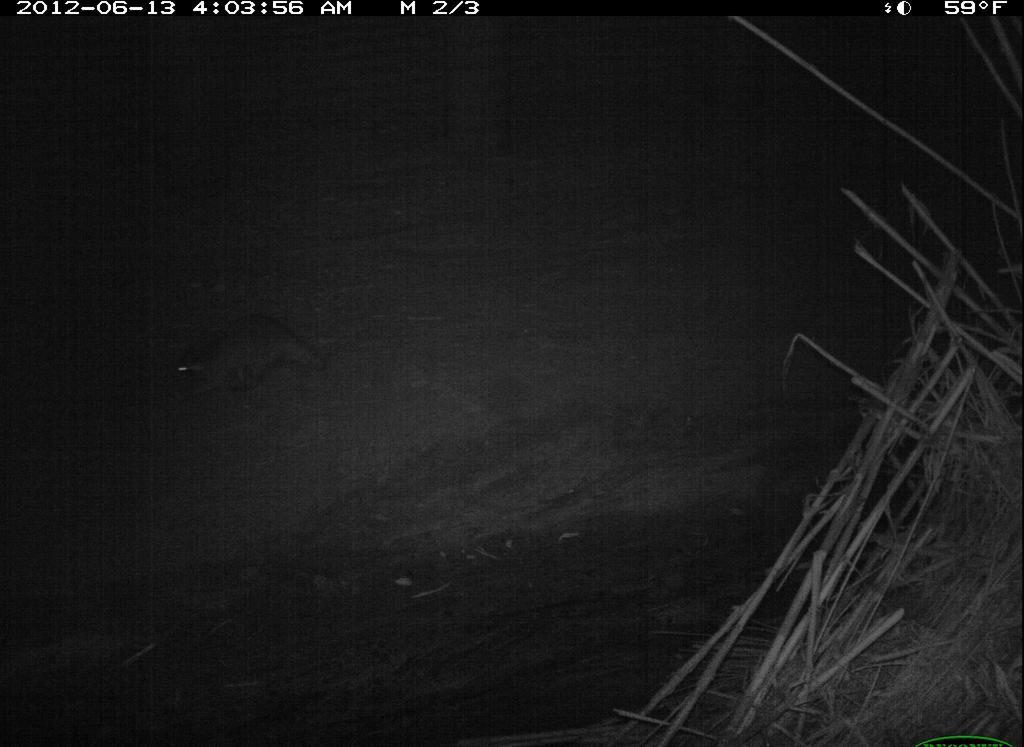raccoon: (140, 304, 386, 411)
